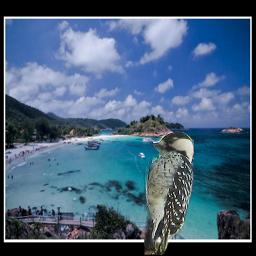Woodpecker: (144, 131, 194, 255)
